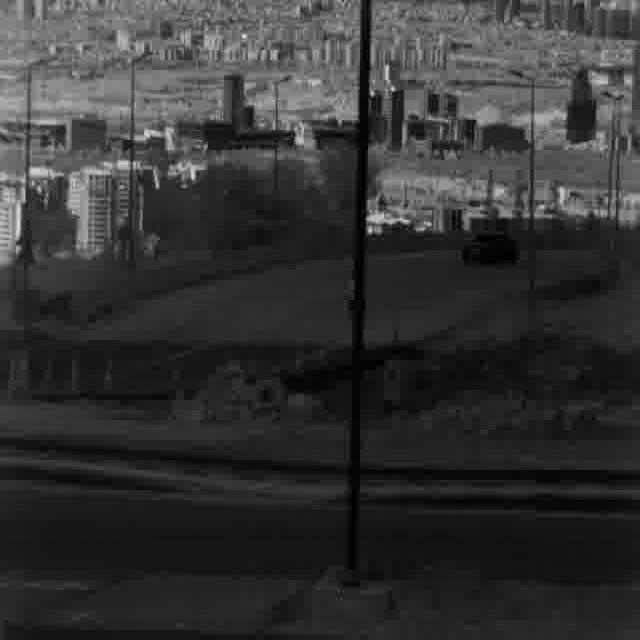Car: (461, 228, 522, 271)
Motorcycle: (343, 272, 355, 321)
